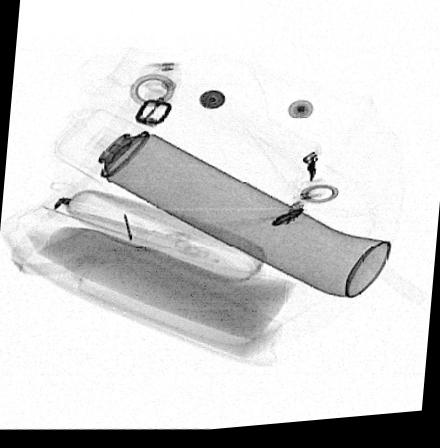Sprayer: (57, 109, 390, 304)
